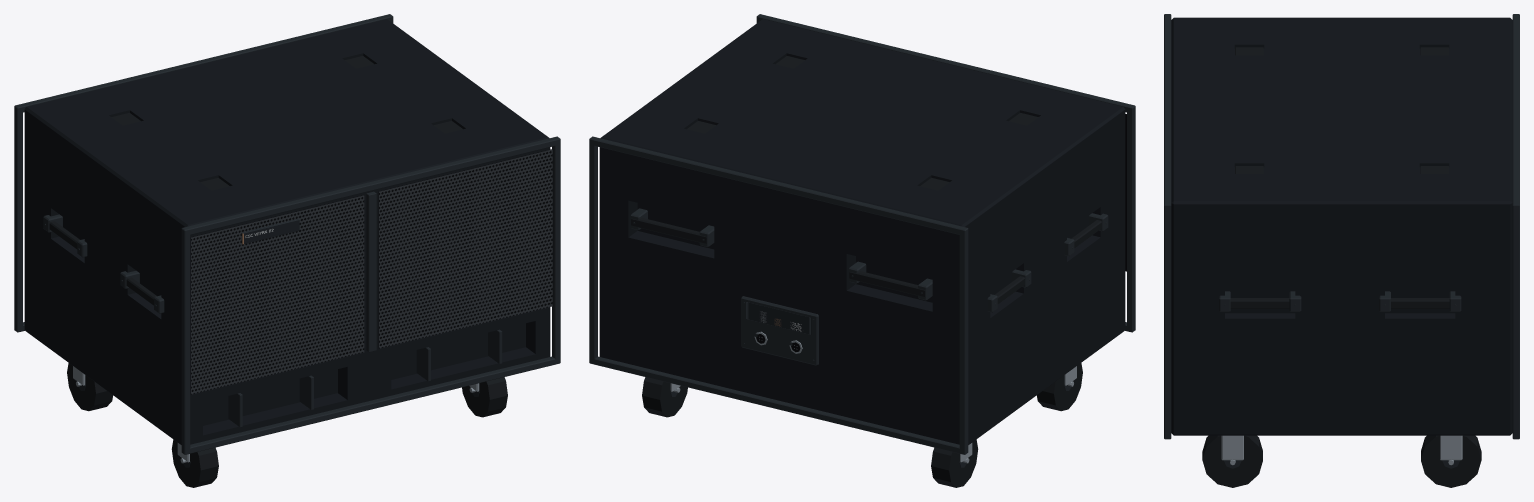
File: CSC_Veyra_B2_GAME_READY.glb
3 renders of one model, left to right at view 1: azimuth 30°, elevation 25°; view 2: azimuth 150°, elevation 25°; view 3: azimuth 270°, elevation 25°, orthographic. The views are drawn at different scales.
Parts seen in each view (by area): view 1: Original bass enclosure.001, Bass grille bay.003, Bass grille bay.002, Bass grille bay | acoustic backing.003, Bass grille bay | acoustic backing.002, Perimeter chassis rail.005, Perimeter chassis rail.004, Reinforced corner rail.004, Reinforced corner rail.005, Reinforced corner rail.006, Perimeter chassis rail.007, Central front spine.001 (+4 smaller); view 2: Original bass enclosure.001, Perimeter chassis rail.007, Perimeter chassis rail.006, Service pod backing.001, Reinforced corner rail.005, Reinforced corner rail.004, Reinforced corner rail.007, Perimeter chassis rail.005, Caster black rubber tyre.005, Caster black rubber tyre.007, Original identity plate.001, Caster black rubber tyre.004 (+2 smaller); view 3: Original bass enclosure.001, Caster black rubber tyre.006, Caster black rubber tyre.007, Reinforced corner rail.007, Reinforced corner rail.006, Perimeter chassis rail.005, Perimeter chassis rail.007, Straight side carry bar.006, Straight side carry bar.007, Caster fork.013, Caster fork.015.
Boxes of the visible parts, bbox=[...] form: Original bass enclosure.001: bbox=[24, 19, 550, 444]; Bass grille bay.003: bbox=[379, 149, 552, 348]; Bass grille bay.002: bbox=[191, 195, 364, 394]; Bass grille bay | acoustic backing.003: bbox=[378, 149, 552, 348]; Bass grille bay | acoustic backing.002: bbox=[190, 195, 363, 394]; Perimeter chassis rail.005: bbox=[182, 137, 559, 235]; Perimeter chassis rail.004: bbox=[182, 356, 560, 453]; Reinforced corner rail.004: bbox=[181, 227, 190, 454]; Reinforced corner rail.005: bbox=[14, 104, 22, 332]; Reinforced corner rail.006: bbox=[552, 136, 560, 364]; Perimeter chassis rail.007: bbox=[14, 14, 393, 112]; Central front spine.001: bbox=[366, 191, 376, 352]; Original bass enclosure.001: bbox=[599, 19, 1125, 444]; Perimeter chassis rail.007: bbox=[589, 136, 968, 234]; Perimeter chassis rail.006: bbox=[589, 356, 966, 454]; Service pod backing.001: bbox=[741, 296, 818, 365]; Reinforced corner rail.005: bbox=[959, 227, 968, 454]; Reinforced corner rail.004: bbox=[1127, 104, 1135, 332]; Reinforced corner rail.007: bbox=[589, 136, 597, 364]; Perimeter chassis rail.005: bbox=[757, 14, 1134, 113]; Caster black rubber tyre.005: bbox=[931, 439, 978, 487]; Caster black rubber tyre.007: bbox=[642, 377, 687, 417]; Original identity plate.001: bbox=[746, 302, 811, 334]; Caster black rubber tyre.004: bbox=[1037, 363, 1082, 411]; Original bass enclosure.001: bbox=[1171, 17, 1512, 435]; Caster black rubber tyre.006: bbox=[1202, 435, 1262, 487]; Caster black rubber tyre.007: bbox=[1421, 435, 1481, 487]; Reinforced corner rail.007: bbox=[1512, 202, 1519, 439]; Reinforced corner rail.006: bbox=[1164, 202, 1171, 439]; Perimeter chassis rail.005: bbox=[1164, 14, 1171, 210]; Perimeter chassis rail.007: bbox=[1512, 14, 1519, 210]; Straight side carry bar.006: bbox=[1230, 298, 1289, 308]; Straight side carry bar.007: bbox=[1391, 298, 1449, 308]; Caster fork.013: bbox=[1221, 435, 1243, 460]; Caster fork.015: bbox=[1440, 435, 1462, 460].
Bounding box in the file's own units: 1.12 × 0.82 × 0.88.
8 materials, 3 textured.
